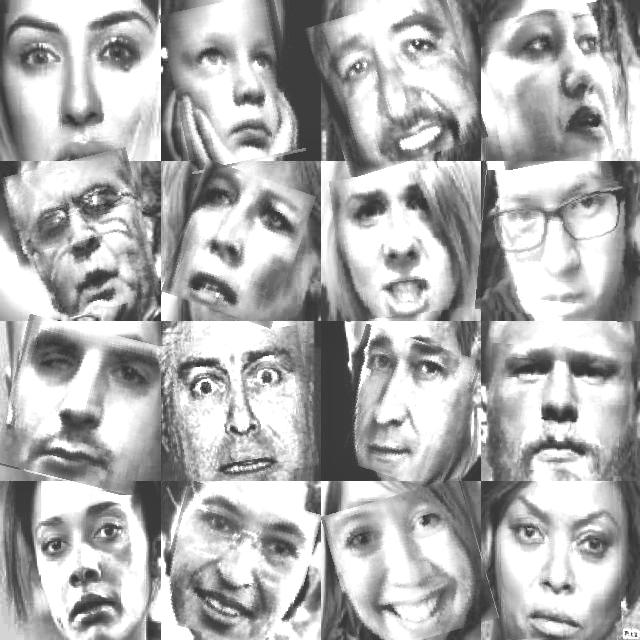angry: (161, 330, 314, 482), (167, 0, 298, 169), (171, 166, 307, 322), (333, 169, 473, 319), (499, 484, 620, 640)
fear: (6, 154, 154, 320), (484, 6, 624, 165), (3, 9, 149, 160)
happy: (315, 0, 478, 168), (329, 485, 490, 640), (159, 487, 314, 640)
neutral: (477, 173, 637, 319), (333, 331, 473, 485), (486, 346, 630, 474), (25, 495, 142, 639)
sad: (1, 322, 161, 490)
